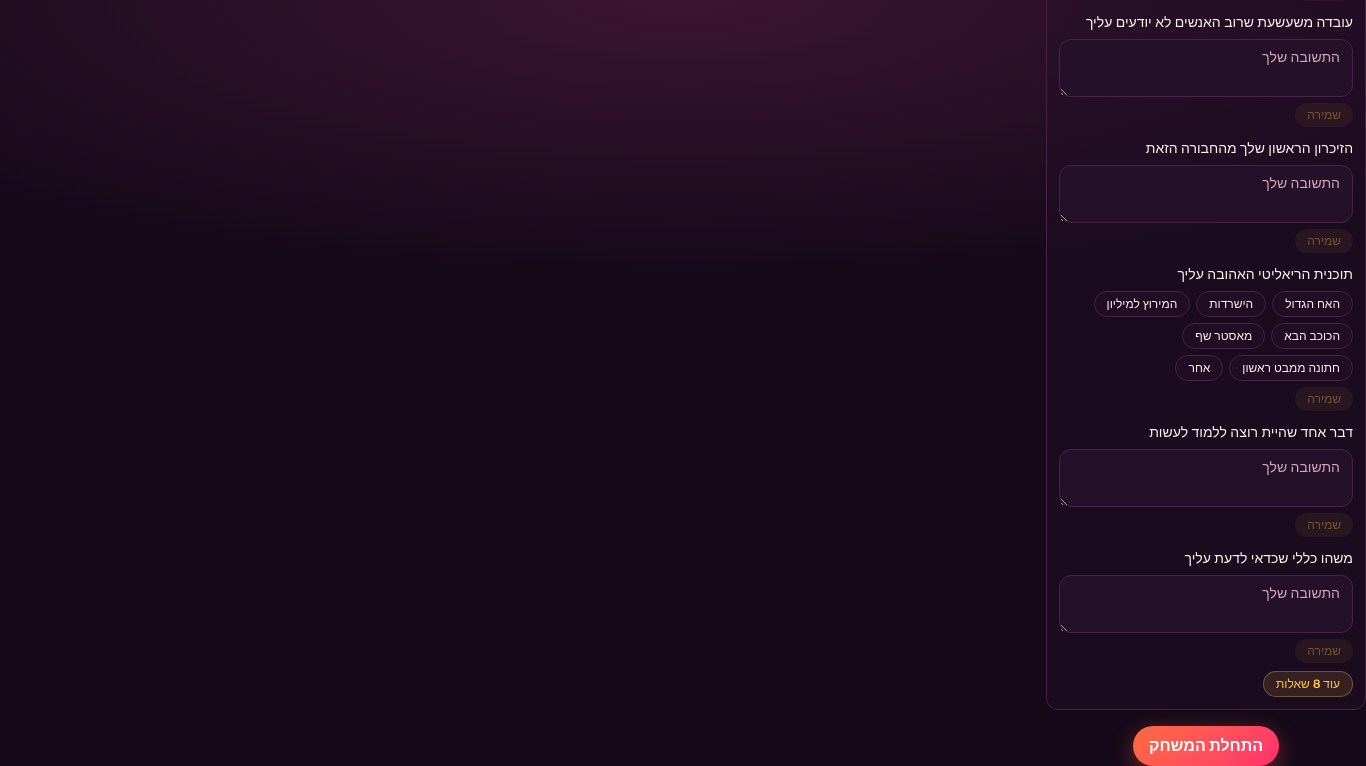
Test case: Lobby, starting while somebody has not changed a rejected name › does not offer to start without them when too few players would remain
The width and height of the screenshot is (1366, 766).
(page scrolled)
Click the button "התחלת המשחק" at {"x": 1206, "y": 746}, box x1=1133 y1=726 x2=1279 y2=765
(page scrolled)
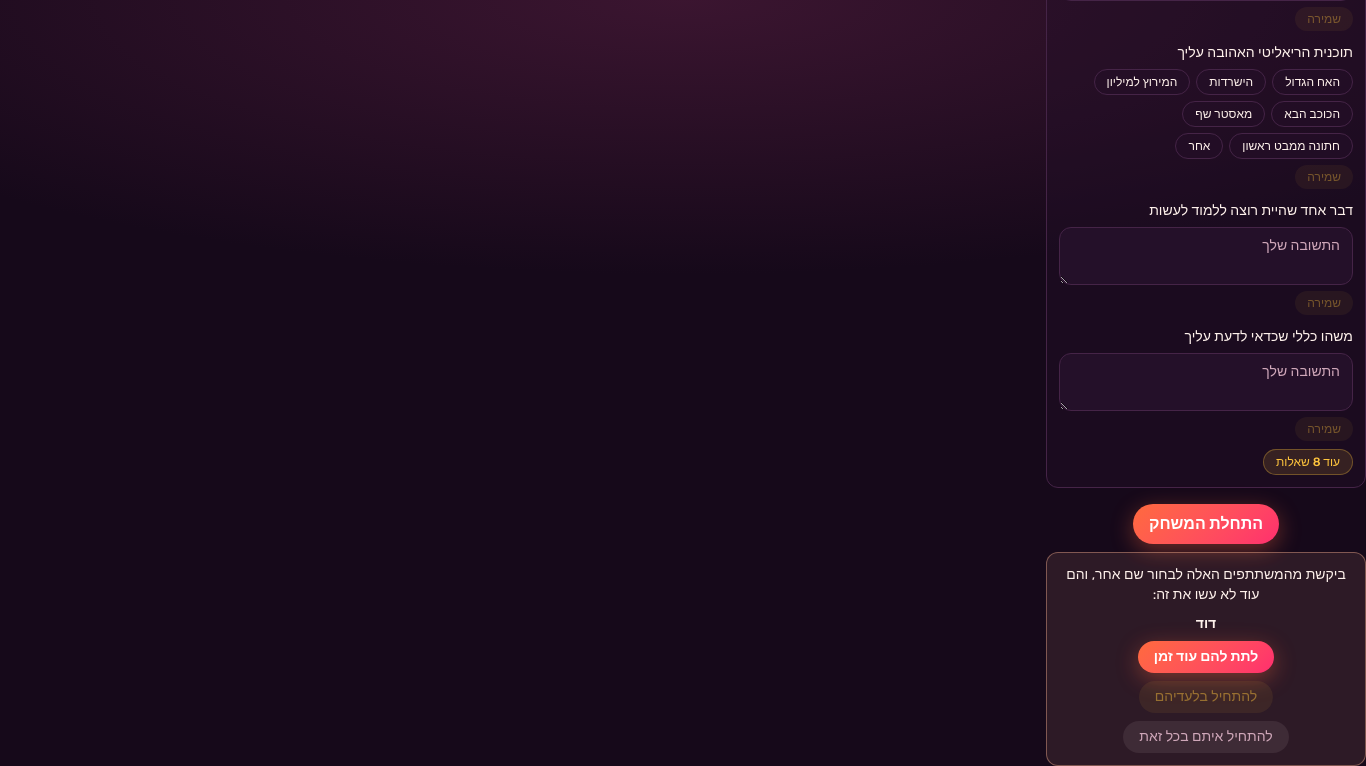
Now the button "להתחיל בלעדיהם" is disabled, box x1=1139 y1=681 x2=1273 y2=713
